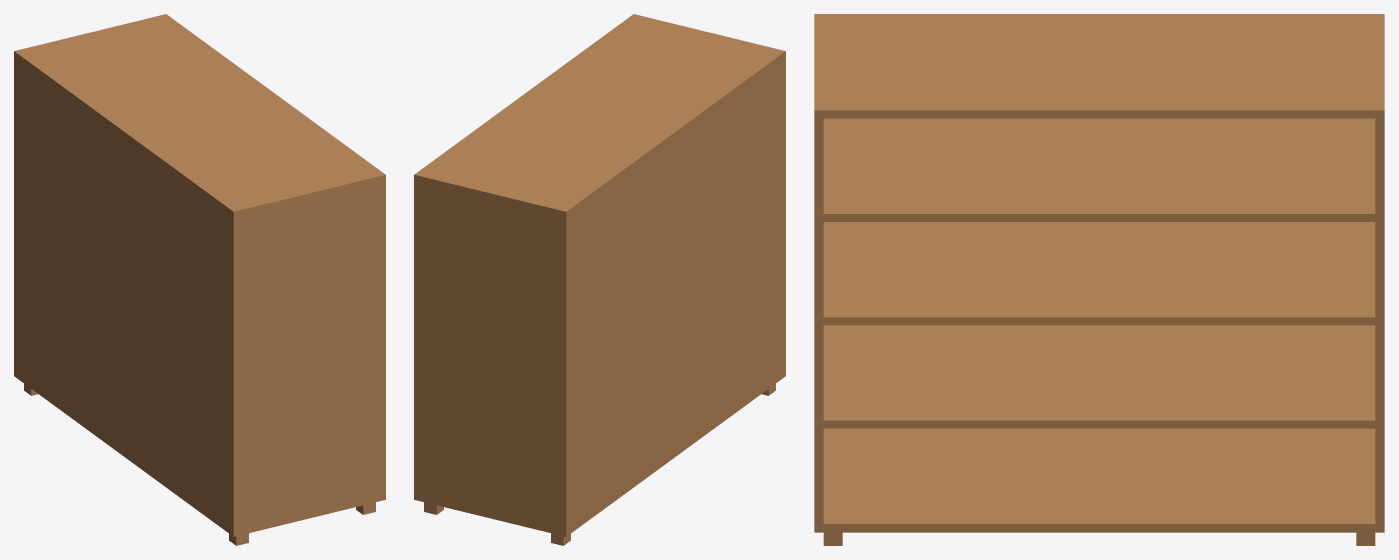
File: shelf_simple.dae
3 views of the same model, side by side, from view 1: azimuth 30°, elevation 25°; view 2: azimuth 150°, elevation 25°; view 3: azimuth 270°, elevation 25° (orthographic). The views are drawn at different scales.
Parts seen in each view (by area): view 1: SketchUp_001; view 2: SketchUp_001; view 3: SketchUp_001.
Part boxes in pixels (left/top/right/bottom): SketchUp_001: left=14, top=14, right=385, bottom=545; SketchUp_001: left=414, top=14, right=785, bottom=545; SketchUp_001: left=814, top=14, right=1384, bottom=545.
Bounding box in the file's own units: 0.6096 × 1.52 × 1.3.
